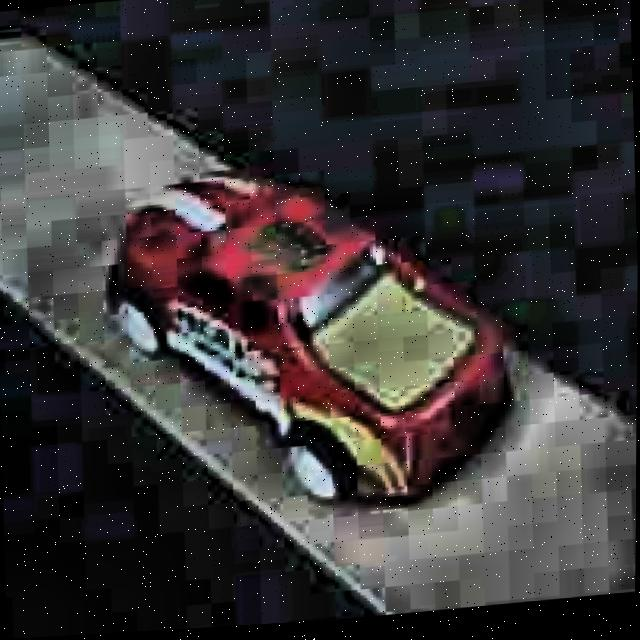car: (99, 139, 518, 538)
